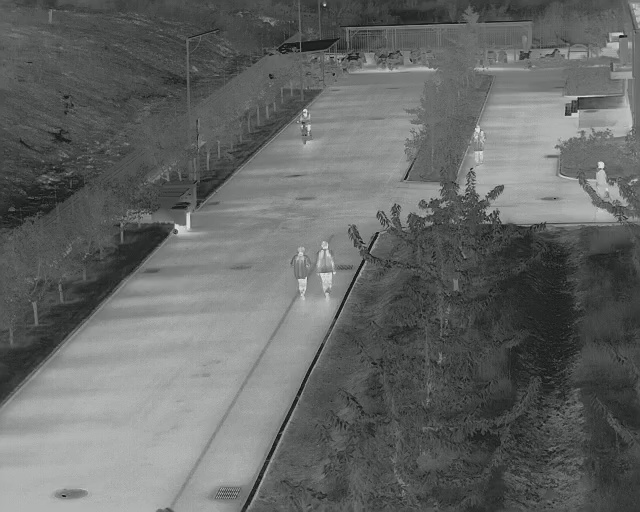NonMotorVehicle: (297, 107, 313, 144)
person: (314, 239, 337, 299), (290, 243, 311, 300), (471, 123, 486, 168), (594, 160, 609, 202)
